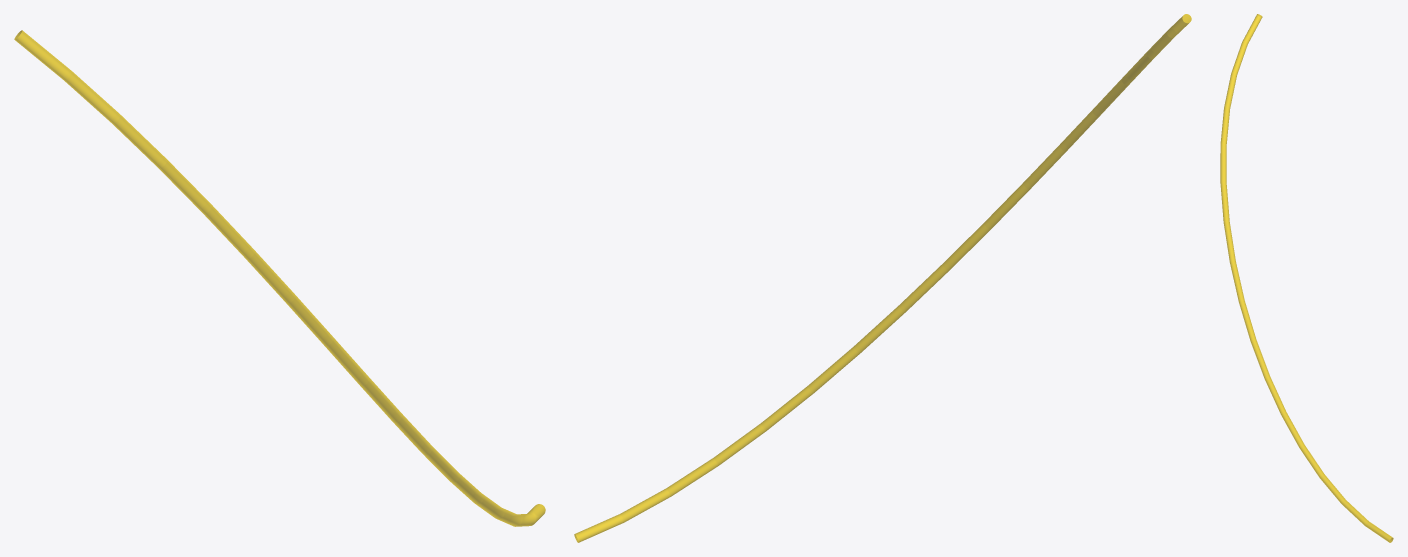
The model's file is Event_100608114_track_5.fbx.
3 views of the same model, side by side, from view 1: azimuth 30°, elevation 25°; view 2: azimuth 150°, elevation 25°; view 3: azimuth 270°, elevation 25° (orthographic). The views are drawn at different scales.
Visible parts, largest first — view 1: Model; view 2: Model; view 3: Model.
Part boxes in pixels (<box>): Model: <box>14,30,545,526</box>; Model: <box>574,14,1191,542</box>; Model: <box>1220,14,1393,542</box>.
Size of the model in its own units: 2.45 by 2.62 by 1.11.
